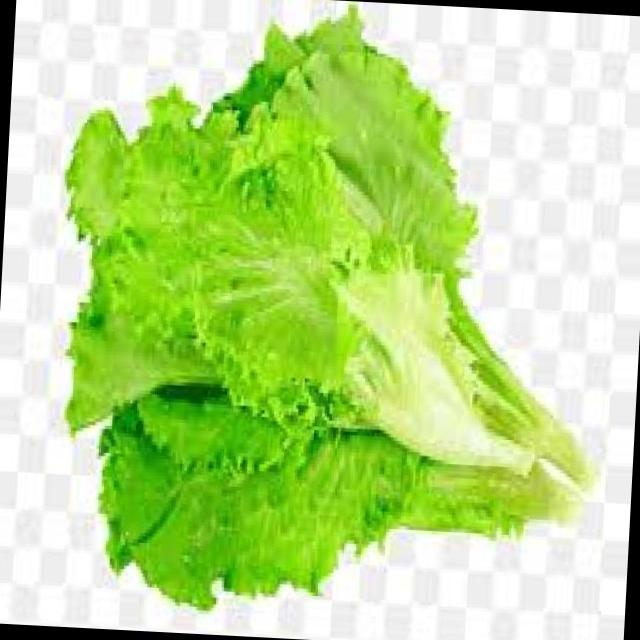Lettuce-Ready-to-Harvest: (67, 10, 591, 608)
